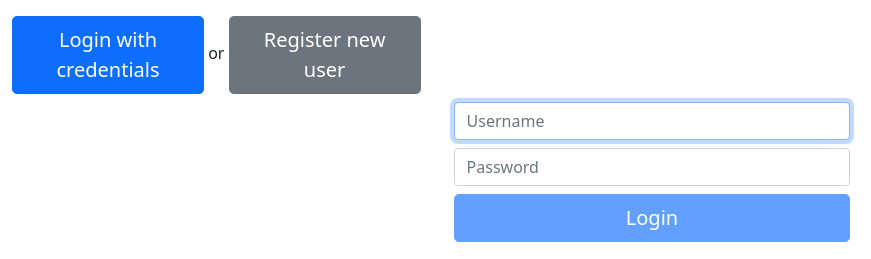
Test: State after typing username and password of "login" button should be enabled
Type "layla" into the field with placeholder "Username". click: (652, 121)
box: [454,102,850,140]
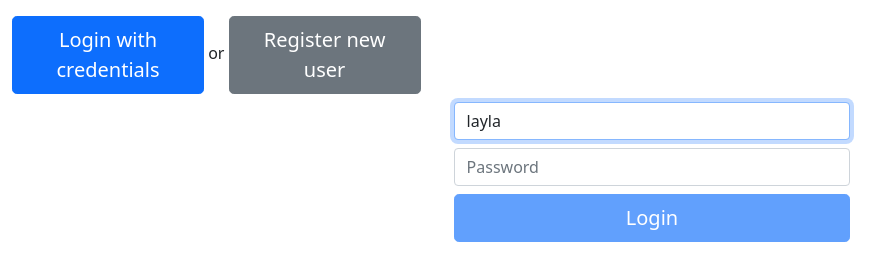
Type "password1" into the password field with placeholder "Password". click: (652, 167)
box: [454,148,850,186]
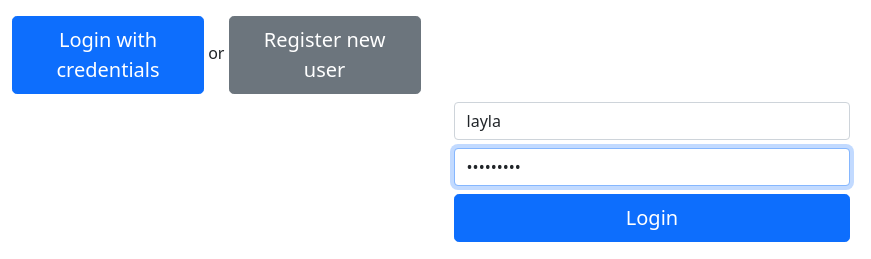
Expected: the button "Login" is enabled, [454,194,850,242]
